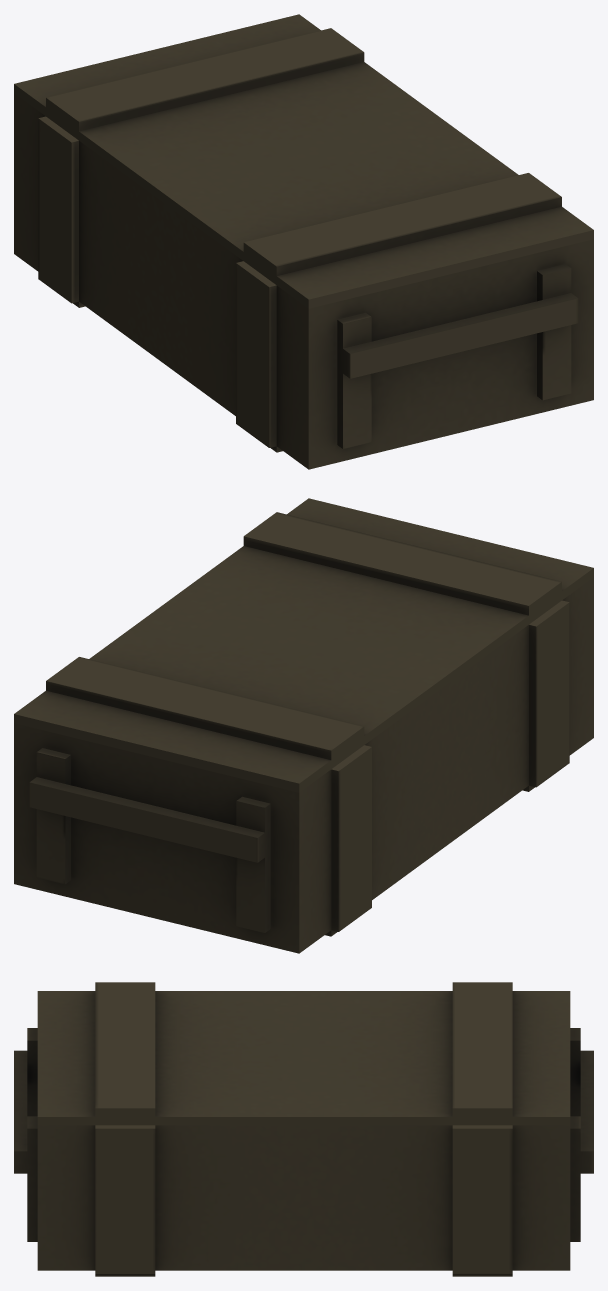
File: Crate_Short 1.fbx
The picture shows the model from 3 angles, top to bottom: view 1: azimuth 30°, elevation 25°; view 2: azimuth 150°, elevation 25°; view 3: azimuth 270°, elevation 25°; orthographic projection. The views are drawn at different scales.
Visible parts, largest first — view 1: Crate_Short, Crate_Short_Top; view 2: Crate_Short, Crate_Short_Top; view 3: Crate_Short, Crate_Short_Top.
Part boxes in pixels (x1=…): Crate_Short: x1=14, y1=93, x2=593, y2=469; Crate_Short_Top: x1=14, y1=14, x2=593, y2=308; Crate_Short: x1=14, y1=577, x2=593, y2=953; Crate_Short_Top: x1=14, y1=498, x2=593, y2=792; Crate_Short: x1=14, y1=1028, x2=593, y2=1276; Crate_Short_Top: x1=37, y1=982, x2=570, y2=1125.
Bounding box in the file's own units: 0.7487 × 0.4432 × 1.39.
